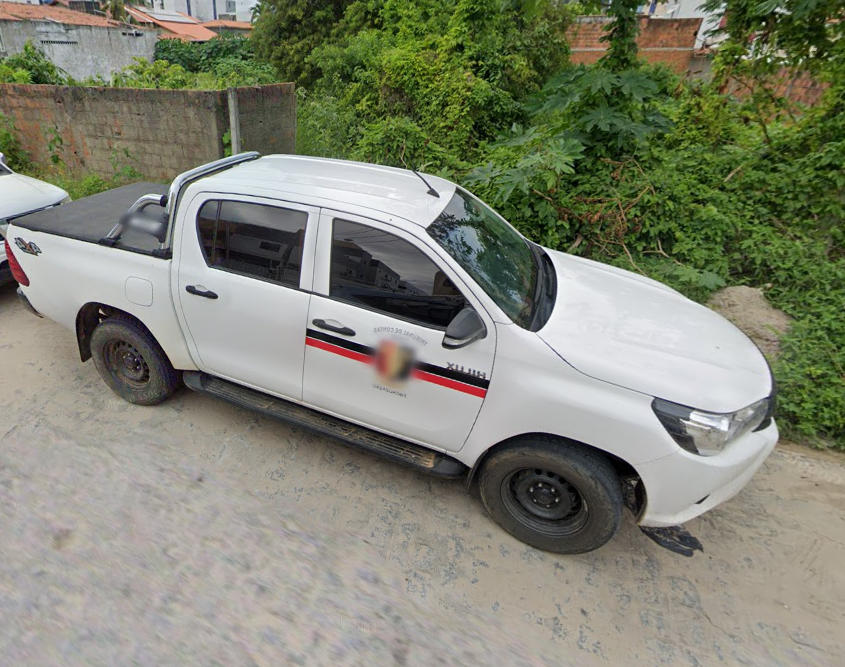car: (4, 148, 781, 562)
